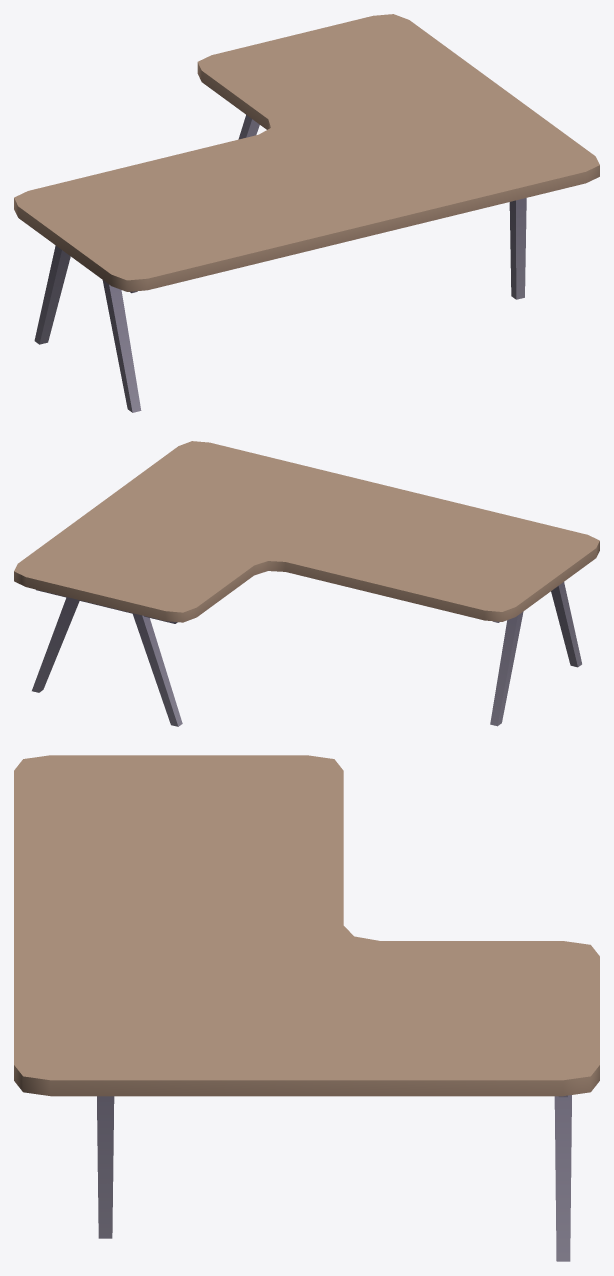
The model's file is desk-slanted-legs-corner.glb.
The picture shows the model from 3 angles, top to bottom: view 1: azimuth 30°, elevation 25°; view 2: azimuth 150°, elevation 25°; view 3: azimuth 270°, elevation 25°; orthographic projection. The views are drawn at different scales.
Parts seen in each view (by area): view 1: desk-slanted-legs-corner; view 2: desk-slanted-legs-corner; view 3: desk-slanted-legs-corner.
Boxes of the visible parts, <box> form: desk-slanted-legs-corner: <box>14,14,599,412</box>; desk-slanted-legs-corner: <box>14,441,599,726</box>; desk-slanted-legs-corner: <box>14,755,599,1261</box>.
Size of the model in its own units: 2.1 by 0.5846 by 1.6.
